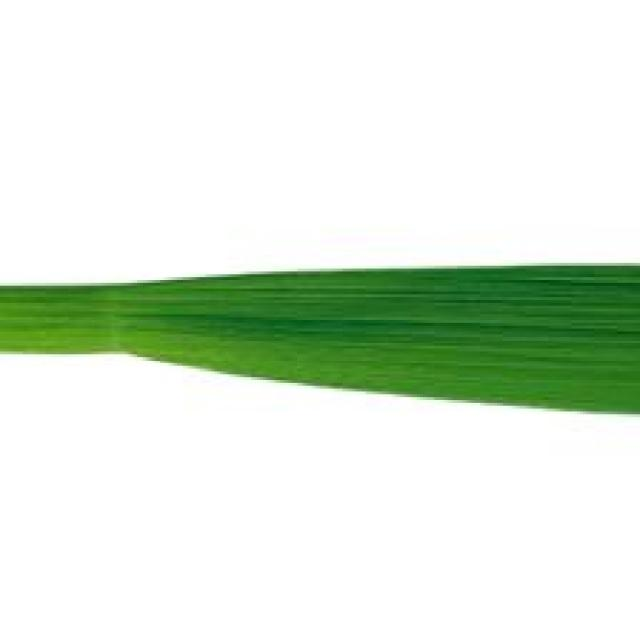Rice___Healthy_Rice_Plant: (0, 266, 637, 417)
